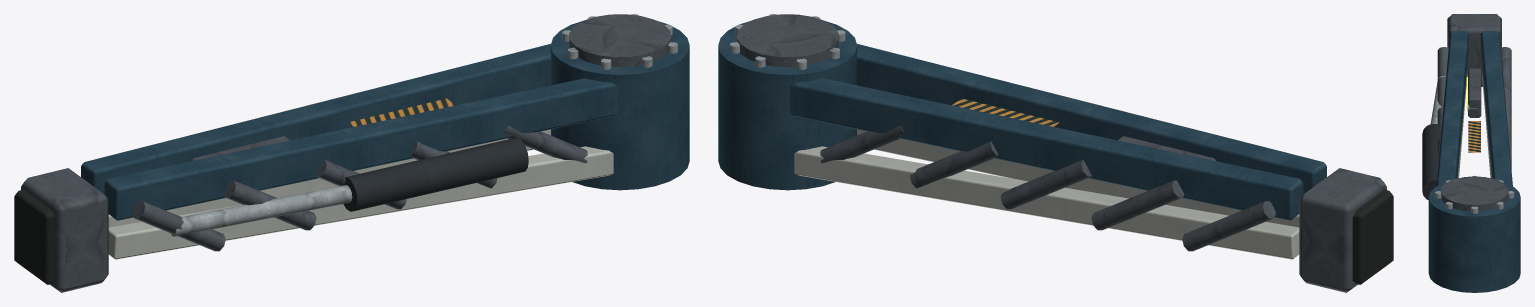
File: arm_starboard.fbx
3 views of the same model, side by side, from view 1: azimuth 30°, elevation 25°; view 2: azimuth 150°, elevation 25°; view 3: azimuth 270°, elevation 25° (orthographic). The views are drawn at different scales.
Parts seen in each view (by area): view 1: SM_aster_arm_starboard; view 2: SM_aster_arm_starboard; view 3: SM_aster_arm_starboard.
Boxes of the visible parts, bbox=[...] form: SM_aster_arm_starboard: bbox=[14, 14, 689, 292]; SM_aster_arm_starboard: bbox=[718, 14, 1393, 292]; SM_aster_arm_starboard: bbox=[1422, 14, 1520, 292].
Size of the model in its own units: 2.78 by 0.51 by 0.55.
8 materials, 7 textured.
